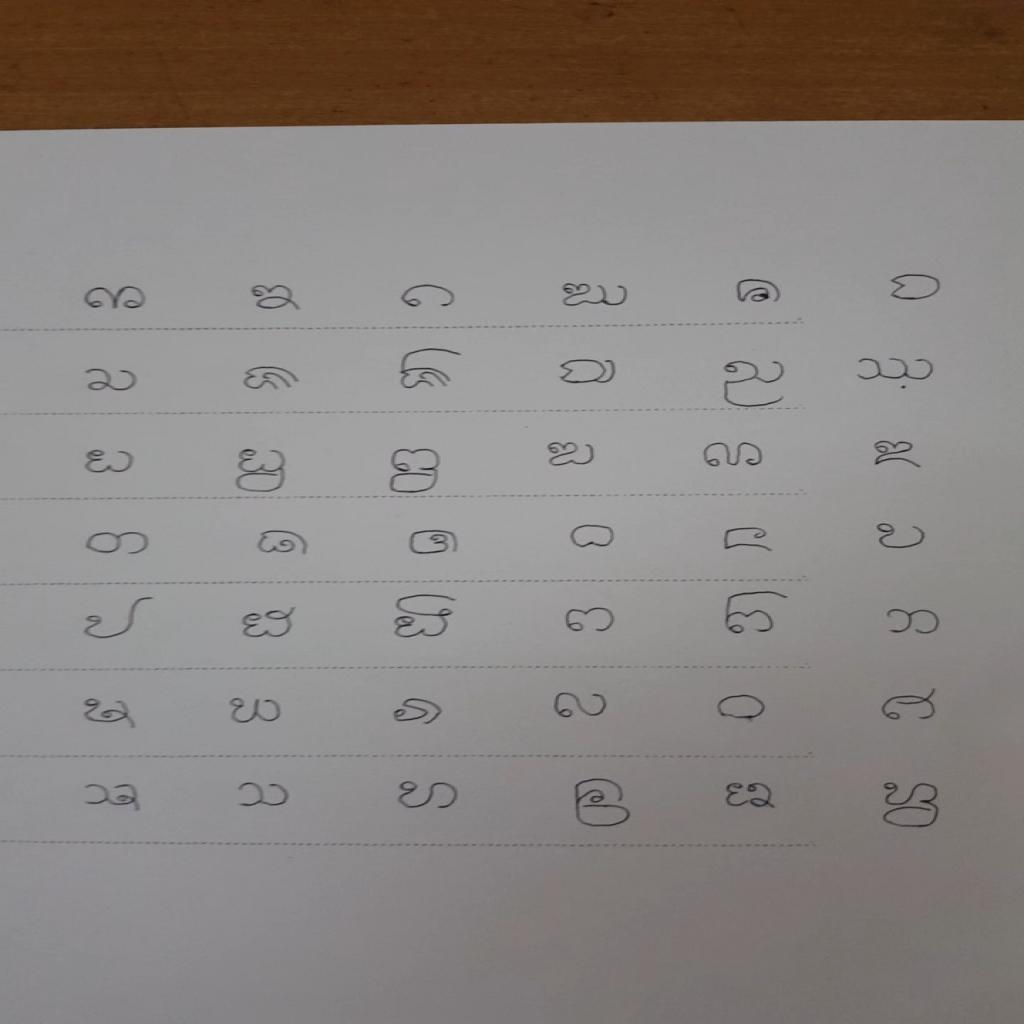LN001: (80, 284, 150, 314)
LN002: (246, 281, 305, 316)
LN003: (398, 283, 460, 312)
LN004: (556, 279, 633, 311)
LN005: (731, 275, 786, 307)
LN006: (883, 270, 947, 306)
LN007: (80, 366, 143, 396)
LN008: (236, 364, 305, 396)
LN009: (393, 347, 465, 395)
LN010: (556, 357, 623, 389)
LN011: (716, 356, 792, 409)
LN012: (850, 353, 944, 383)
LN013: (80, 447, 139, 479)
LN014: (231, 445, 291, 495)
LN015: (383, 447, 446, 497)
LN016: (540, 438, 601, 471)
LN017: (698, 440, 767, 472)
LN018: (867, 436, 925, 472)
LN019: (82, 527, 155, 561)
LN020: (254, 525, 314, 560)
LN021: (404, 526, 464, 558)
LN022: (566, 520, 621, 553)
LN023: (717, 523, 778, 555)
LN024: (871, 519, 932, 553)
LN025: (79, 595, 158, 643)
LN026: (236, 605, 298, 642)
LN027: (389, 592, 459, 643)
LN028: (561, 605, 618, 638)
LN029: (720, 588, 793, 638)
LN030: (883, 605, 946, 640)
LN031: (77, 694, 139, 733)
LN032: (225, 693, 287, 727)
LN033: (387, 693, 448, 728)
LN034: (545, 687, 615, 723)
LN035: (714, 692, 772, 721)
LN036: (875, 685, 944, 725)
LN037: (79, 781, 144, 815)
LN038: (231, 780, 294, 812)
LN039: (392, 778, 463, 814)
LN040: (570, 775, 634, 831)
LN041: (720, 778, 780, 813)
LN042: (877, 777, 944, 832)
